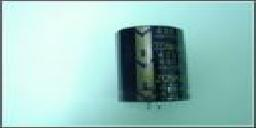Electrolytic-Capacitor: (112, 23, 192, 114)
